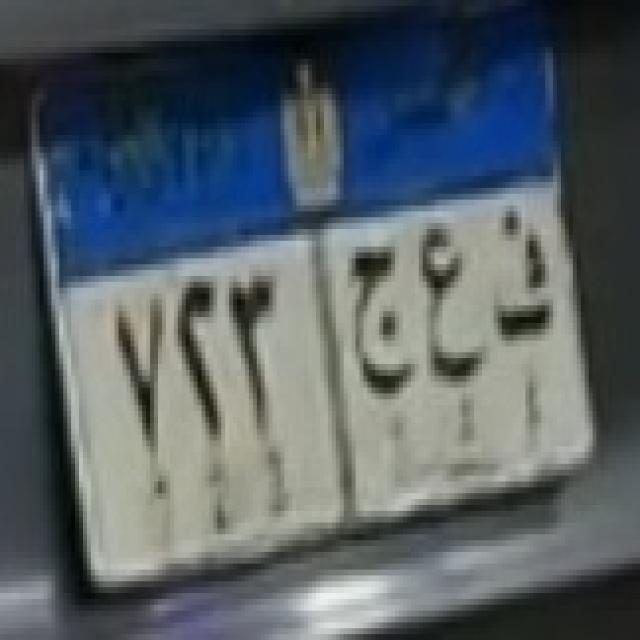2: (174, 266, 231, 446)
3: (229, 269, 297, 437)
7: (108, 288, 178, 458)
Een: (420, 225, 486, 388)
F: (492, 208, 562, 358)
geem: (348, 244, 412, 398)
